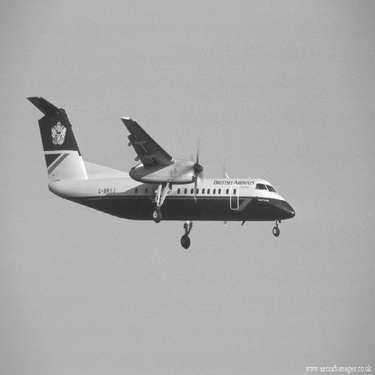airplane: (19, 73, 308, 242)
